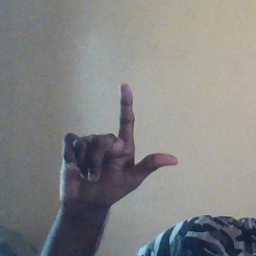L: (58, 82, 182, 204)
